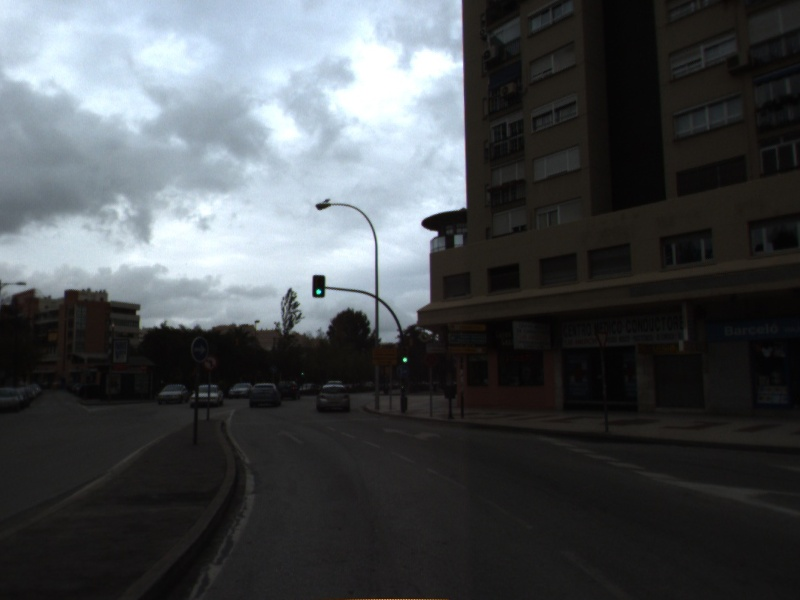STRAIGHT: (275, 427, 307, 446)
STRAIGHT_RIGHT: (380, 425, 445, 443)
